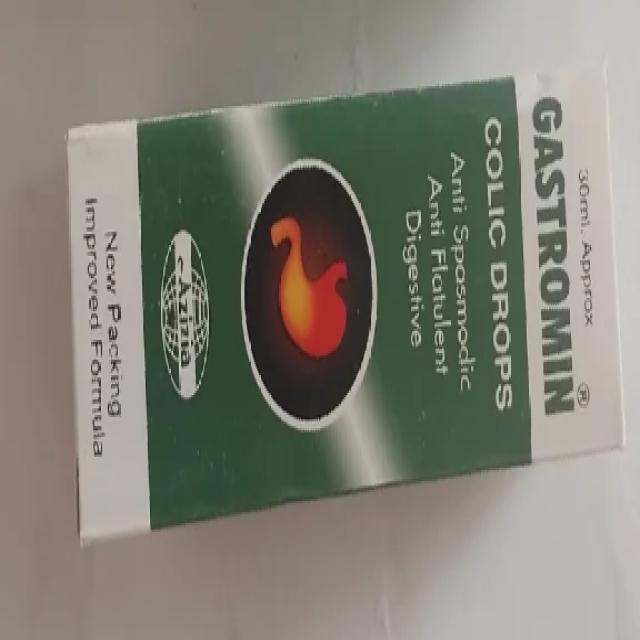drug-name: (526, 93, 581, 423)
